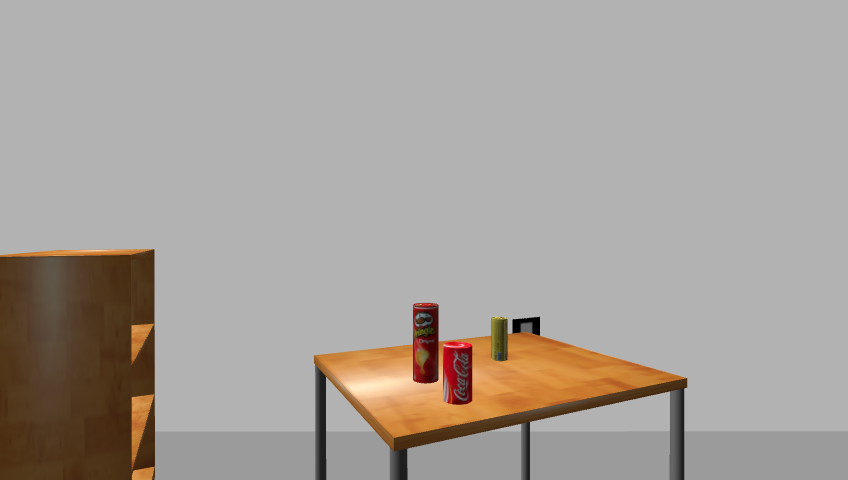aruco marker: (508, 316, 544, 339)
biscuits pack: (490, 316, 509, 364)
bookshelf: (0, 248, 162, 479)
coke can: (444, 342, 474, 405)
dinner table: (302, 335, 695, 479)
pringles can: (409, 302, 441, 386)
